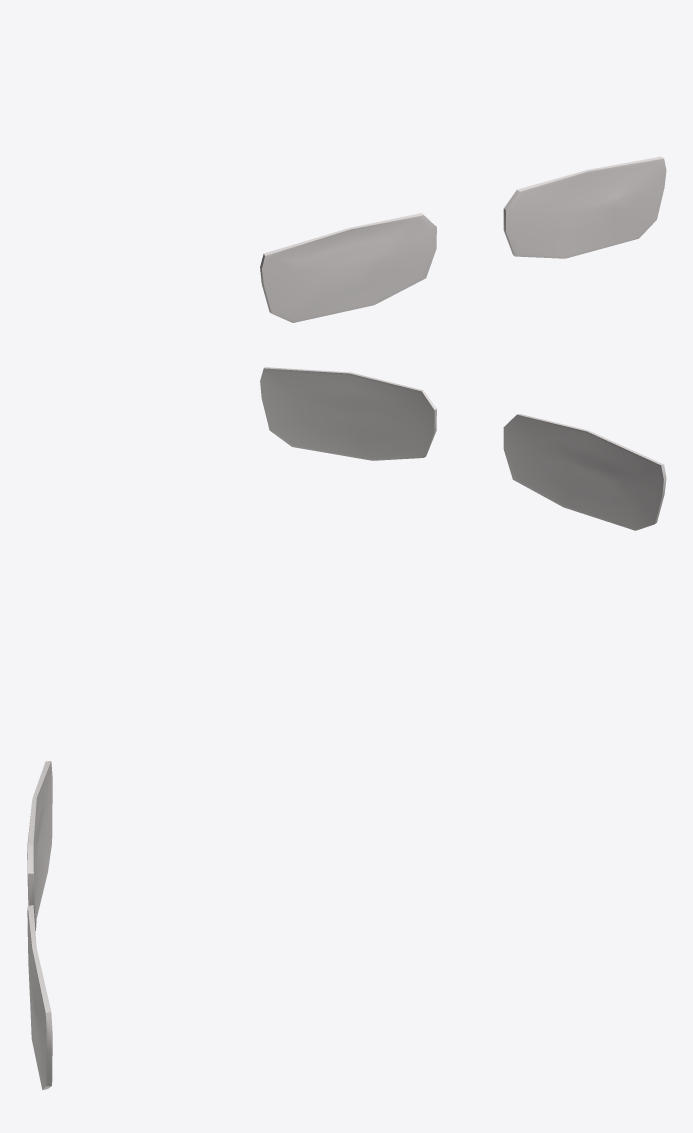
The model's file is glasses.fbx.
The picture shows the model from 3 angles, top to bottom: view 1: azimuth 30°, elevation 25°; view 2: azimuth 150°, elevation 25°; view 3: azimuth 270°, elevation 25°; orthographic projection. The views are drawn at different scales.
Parts seen in each view (by area): view 1: glasses; view 2: glasses; view 3: glasses.
Boxes of the visible parts, left/top/right/bottom form: glasses: left=260, top=156, right=666, bottom=322; glasses: left=260, top=367, right=666, bottom=530; glasses: left=27, top=761, right=52, bottom=1090.
Bounding box in the file's own units: 5.53 × 1.17 × 5.63.
1 material, 1 textured.
